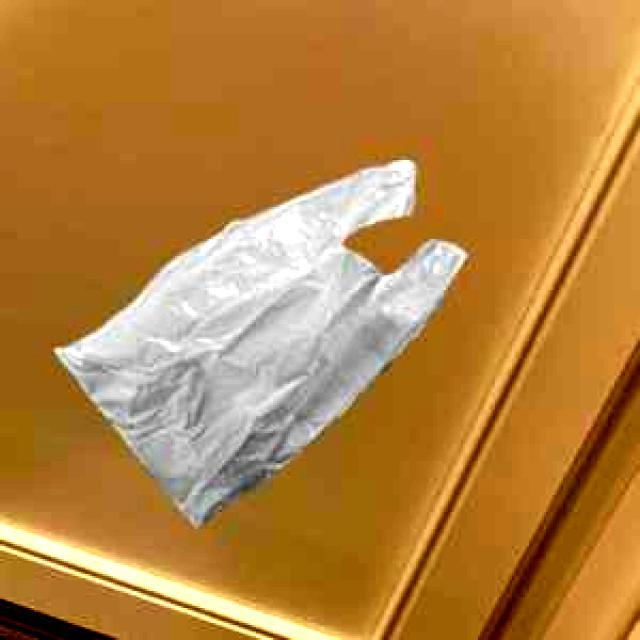Plastic_Bag: (52, 159, 462, 524)
